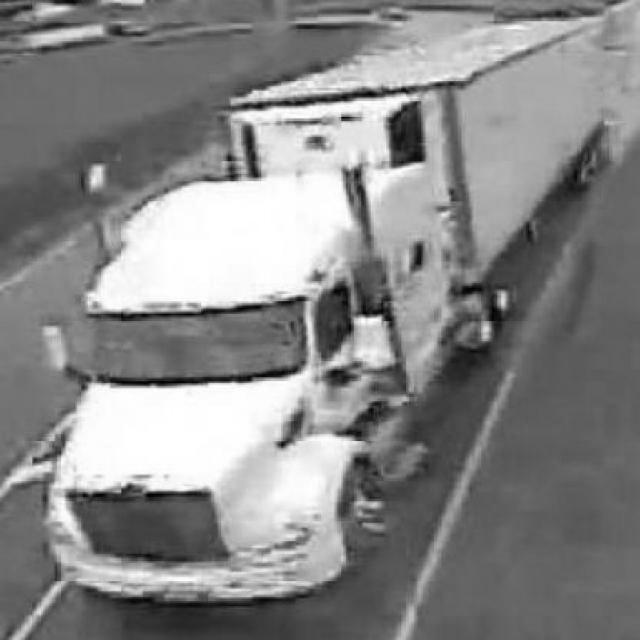Box Truck: (41, 14, 621, 605)
